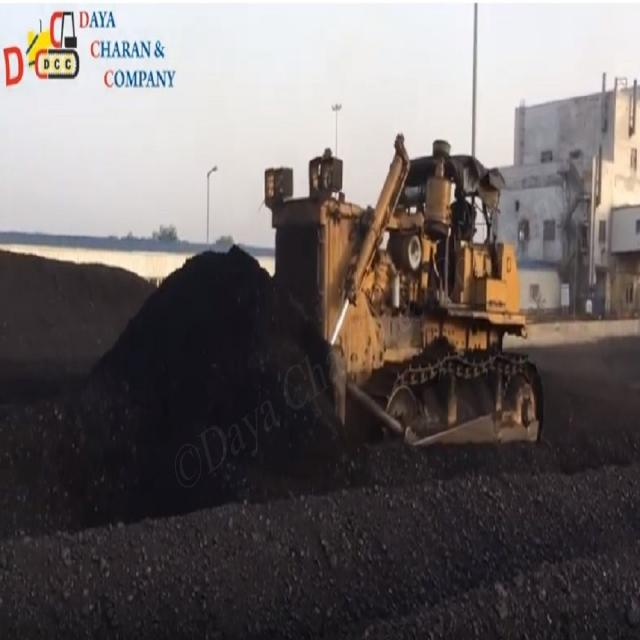buldozerpayloadergrader: (223, 136, 550, 447)
